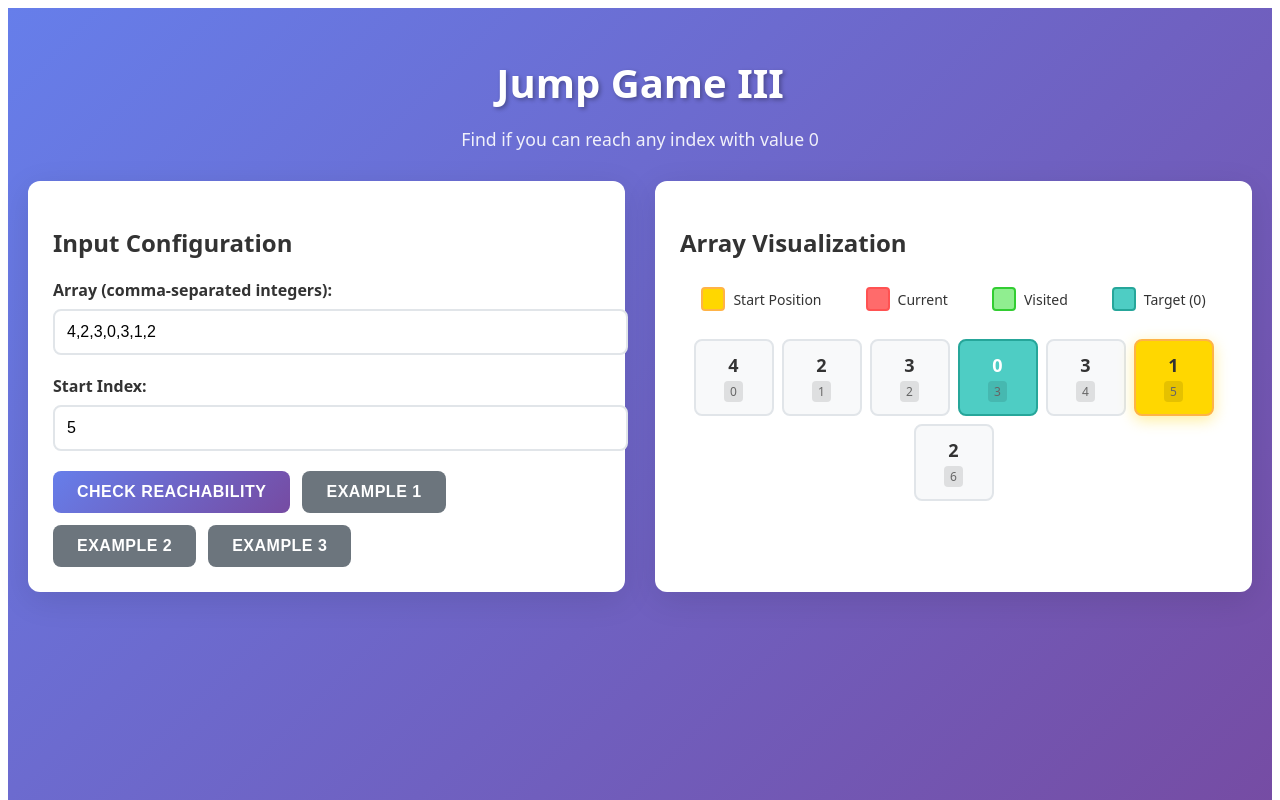
Test: JumpGame Component › calculates result for default example
What coordinates should you click on to do the following:
click the button with test id "calculate-btn"
I would click on:
 (172, 492)
Its box is [53, 471, 290, 513].
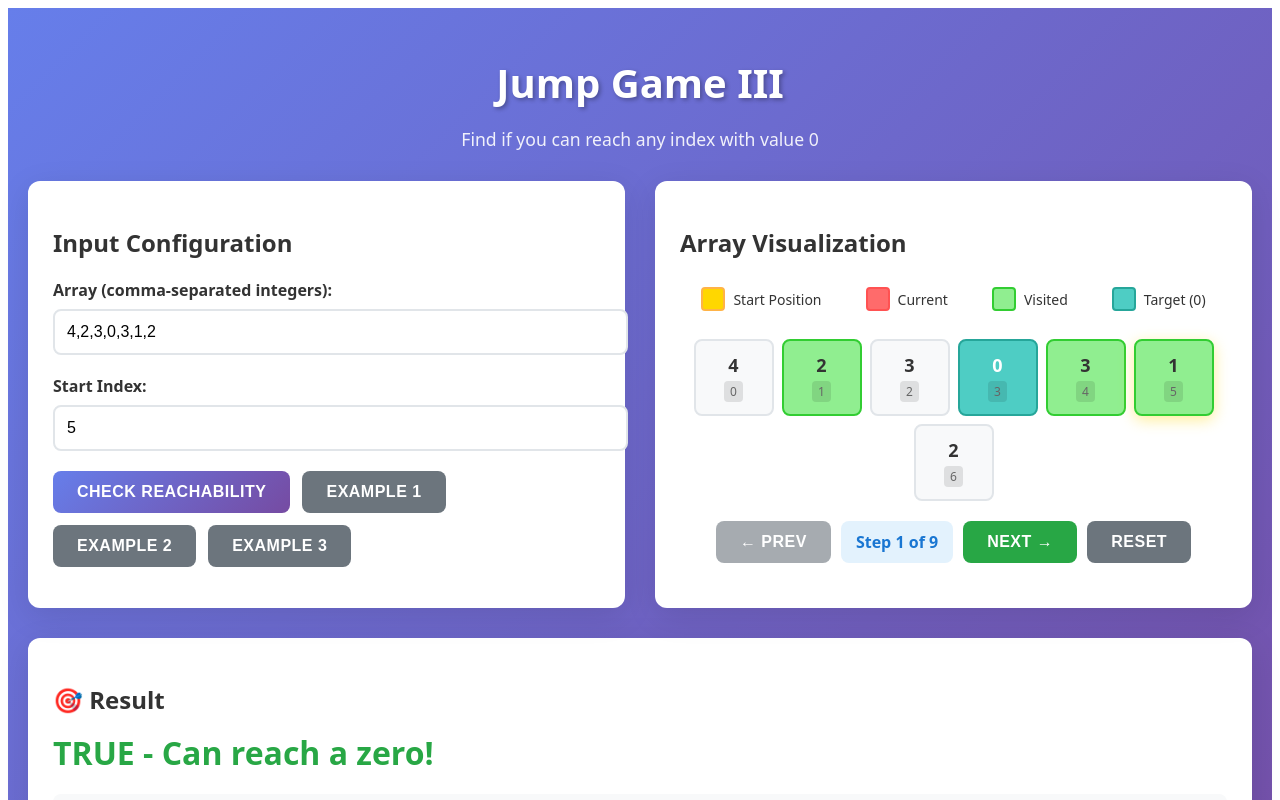
Check: the text with test id "result-value" reads "TRUE - Can reach a zero!", box [53, 731, 434, 774]
